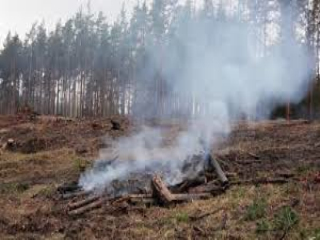smoke: (96, 21, 313, 196)
